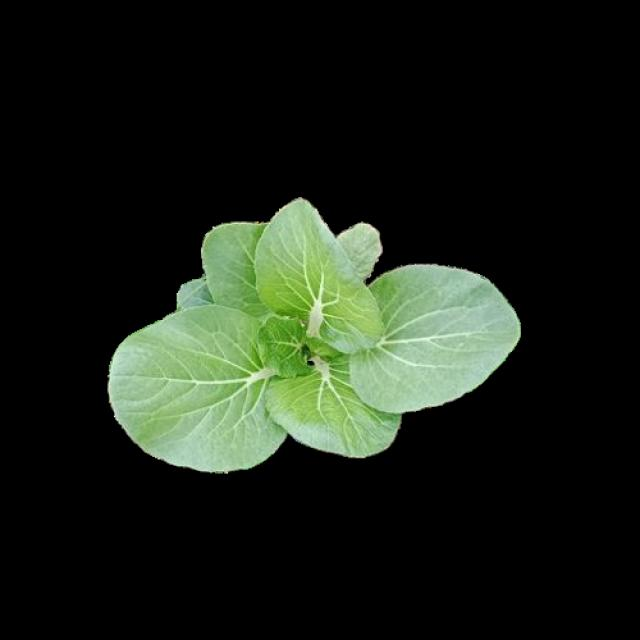healthy: (104, 197, 518, 469)
not-mature: (106, 200, 521, 471)
